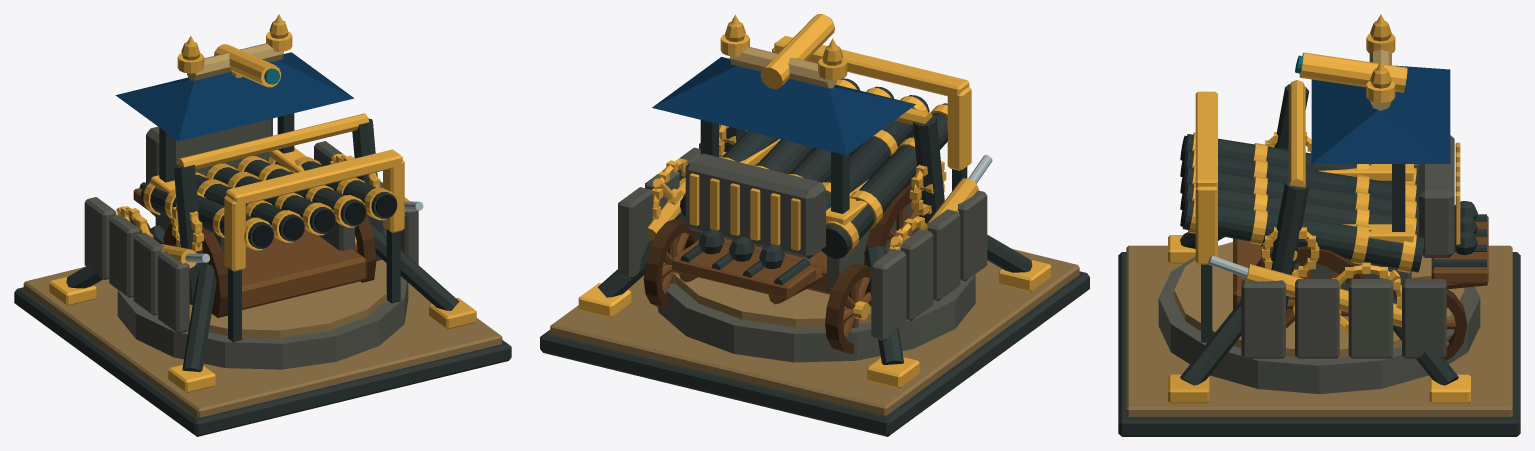
3 renders of one model, left to right at view 1: azimuth 30°, elevation 25°; view 2: azimuth 150°, elevation 25°; view 3: azimuth 270°, elevation 25°, orthographic. The views are drawn at different scales.
Parts seen in each view (by area): view 1: cannon_level15_structure, cannon_level15_metal; view 2: cannon_level15_structure, cannon_level15_metal; view 3: cannon_level15_structure, cannon_level15_metal.
Part boxes in pixels (bbox=[...]): cannon_level15_structure: bbox=[14, 21, 511, 436]; cannon_level15_metal: bbox=[49, 14, 476, 392]; cannon_level15_structure: bbox=[540, 17, 1089, 436]; cannon_level15_metal: bbox=[578, 14, 1051, 388]; cannon_level15_structure: bbox=[1118, 21, 1520, 436]; cannon_level15_metal: bbox=[1168, 14, 1470, 403].
Bounding box in the file's own units: 3.6 × 3.12 × 3.6.
